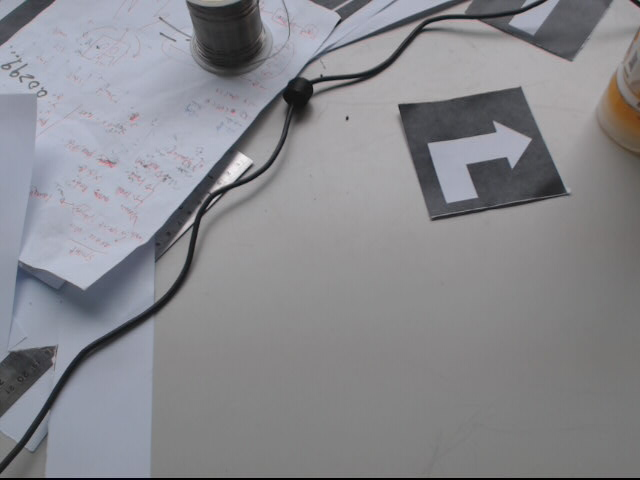right: (399, 83, 567, 220)
